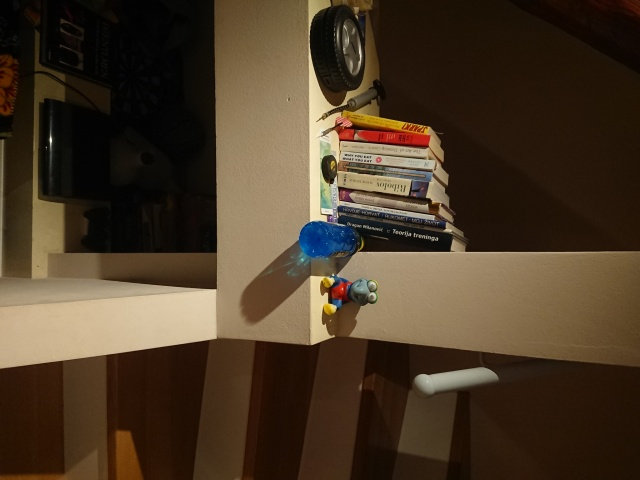Vindi Iso Sport Forest Strawberries 500mL: (297, 219, 368, 258)
